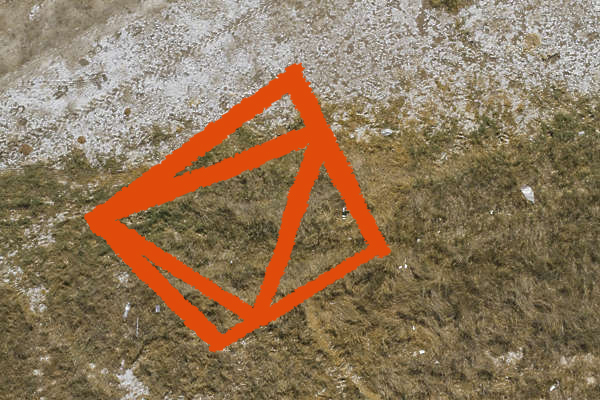marker: (82, 60, 393, 357)
